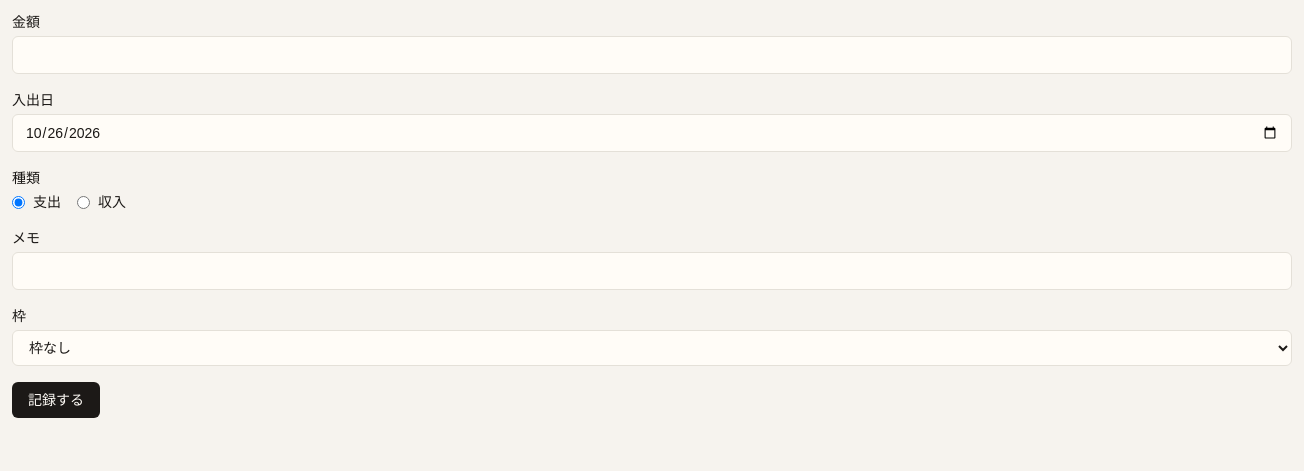
Test: 0円は記録できない
Type "0" into the field labelled "金額" at (652, 55), box top-left (12, 36), bottom-right (1292, 74)
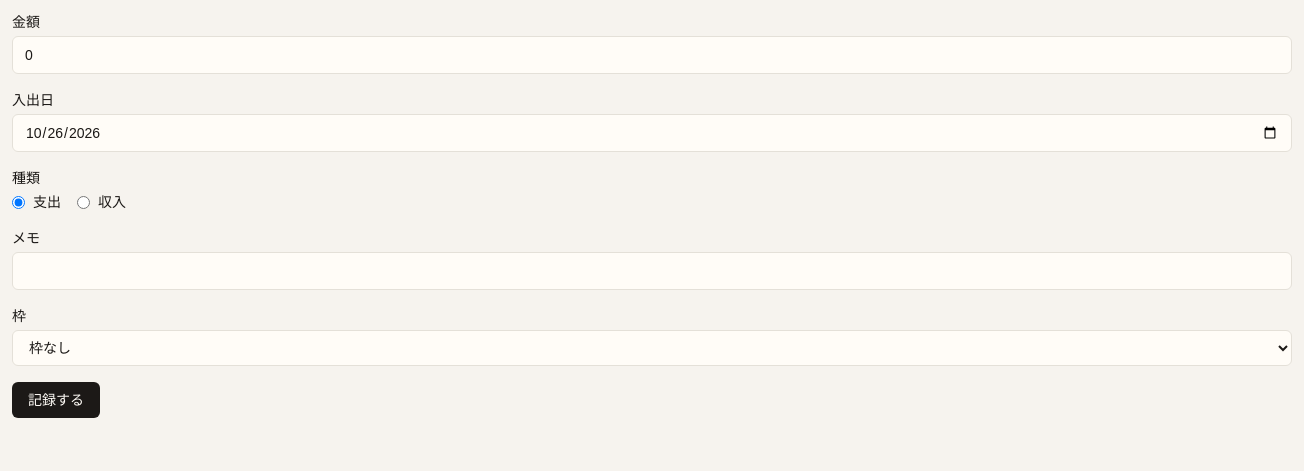
Click the button "記録する" at (56, 400), box top-left (12, 382), bottom-right (100, 418)
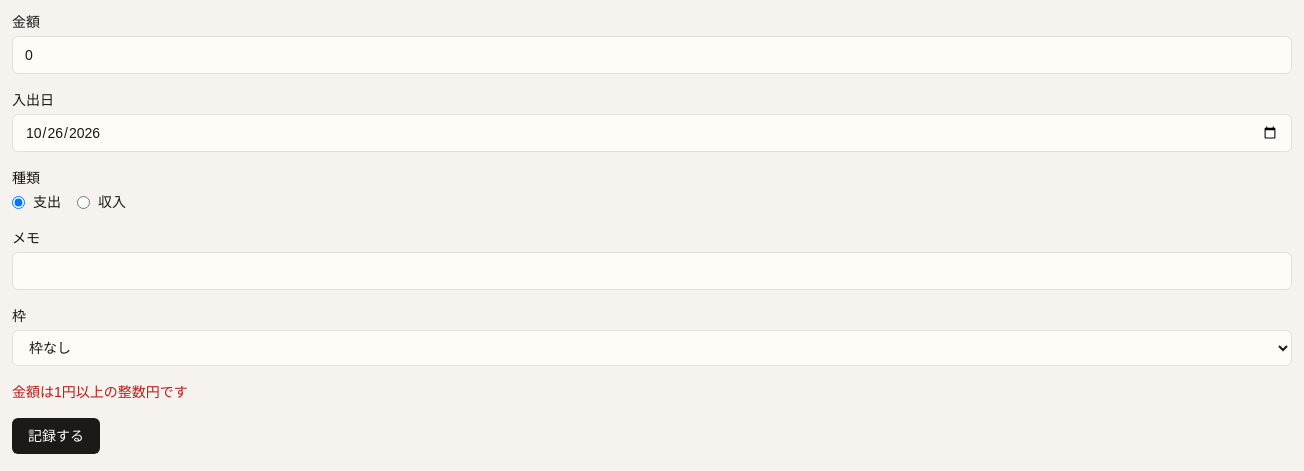
Check: the message reads "金額は1円以上の整数円です", box top-left (12, 384), bottom-right (188, 400)
